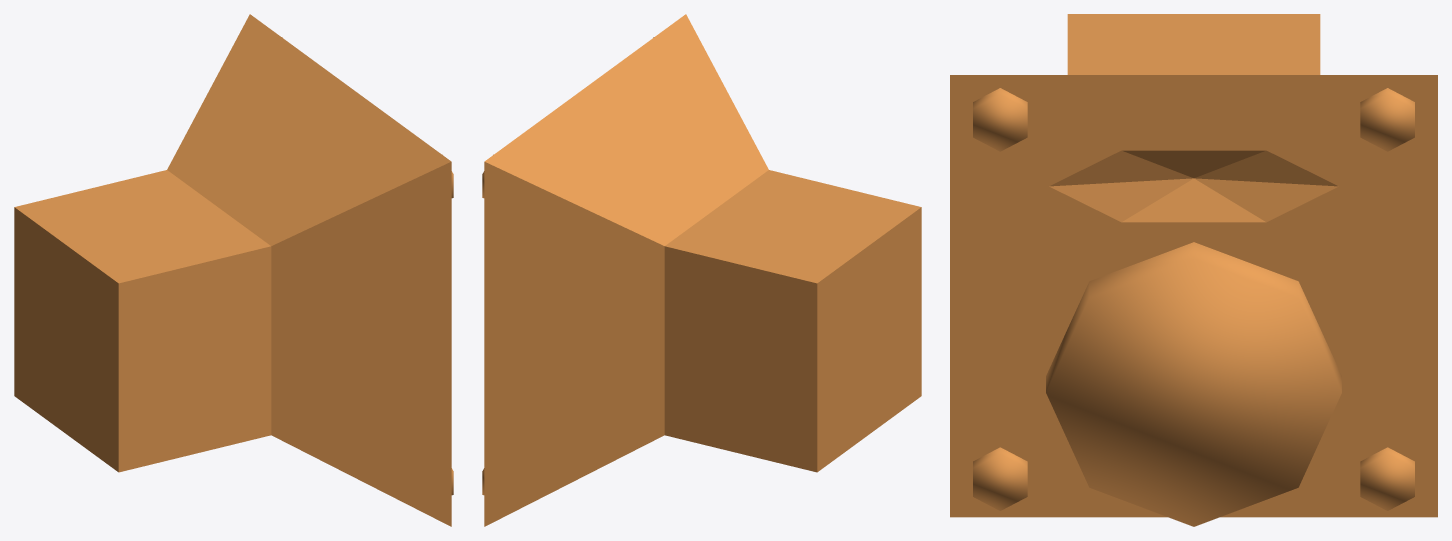
The model's file is Controlador de Som.fbx.
3 views of the same model, side by side, from view 1: azimuth 30°, elevation 25°; view 2: azimuth 150°, elevation 25°; view 3: azimuth 270°, elevation 25° (orthographic). The views are drawn at different scales.
Parts seen in each view (by area): view 1: Cube.002; view 2: Cube.002; view 3: Cube.002.
Part boxes in pixels (x1,y1,x2,y2): Cube.002: (14, 14, 453, 526); Cube.002: (482, 14, 921, 526); Cube.002: (950, 14, 1437, 526).
Bounding box in the file's own units: 346 × 387 × 387.
